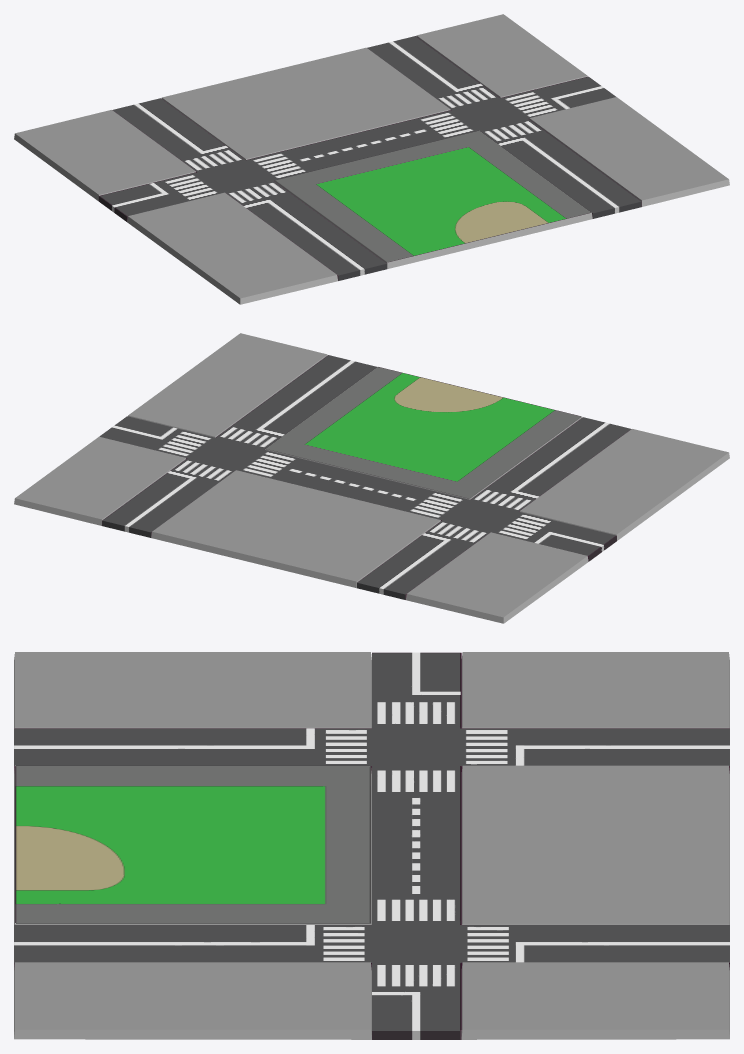
The model's file is map.fbx.
The picture shows the model from 3 angles, top to bottom: view 1: azimuth 30°, elevation 25°; view 2: azimuth 150°, elevation 25°; view 3: azimuth 270°, elevation 25°; orthographic projection. The views are drawn at different scales.
Parts seen in each view (by area): view 1: pPlane1; view 2: pPlane1; view 3: pPlane1.
Part boxes in pixels (x1=…): pPlane1: x1=14, y1=14, x2=729, y2=304; pPlane1: x1=14, y1=333, x2=729, y2=623; pPlane1: x1=14, y1=652, x2=729, y2=1039.
Bounding box in the file's own units: 500 × 6.11 × 400.
Materials: 4 (2 with a texture image).
